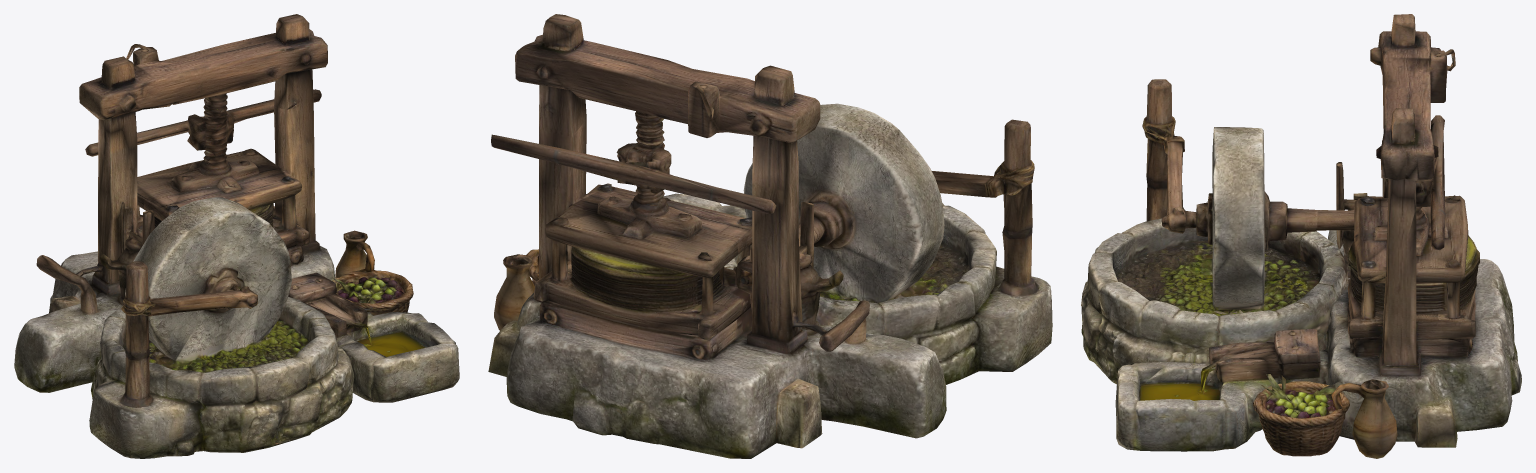
The model's file is city_balikesir_olive_press.glb.
The picture shows the model from 3 angles, left to right: view 1: azimuth 30°, elevation 25°; view 2: azimuth 150°, elevation 25°; view 3: azimuth 270°, elevation 25°; orthographic projection. The views are drawn at different scales.
Parts seen in each view (by area): view 1: Mesh1.0; view 2: Mesh1.0; view 3: Mesh1.0.
Boxes of the visible parts, x1,y1,x2,y2 form: Mesh1.0: (14, 14, 459, 458); Mesh1.0: (488, 14, 1052, 458); Mesh1.0: (1081, 14, 1521, 458).
Size of the model in its own units: 3.44 by 2.6 by 3.3.
1 material, 1 textured.
